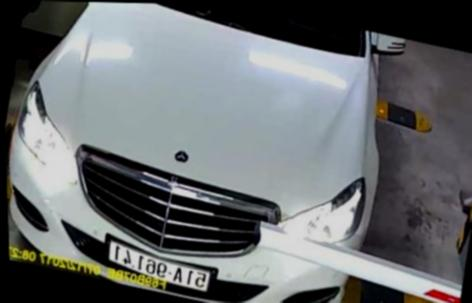License_Plate: (111, 229, 219, 296)
